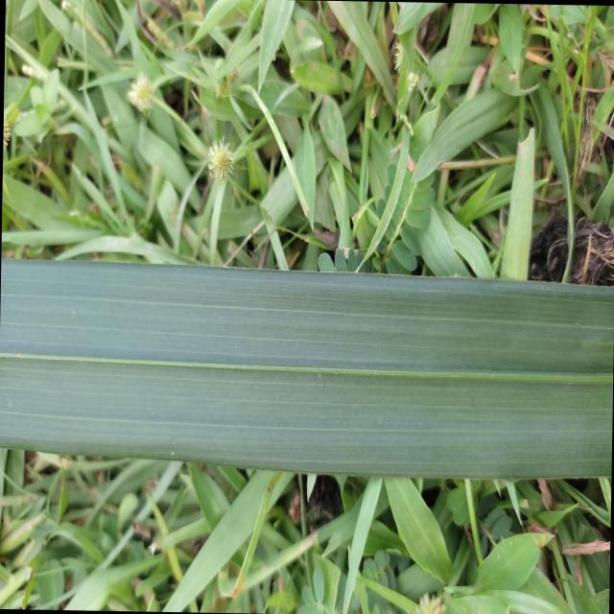Healthy: (0, 255, 614, 484)
